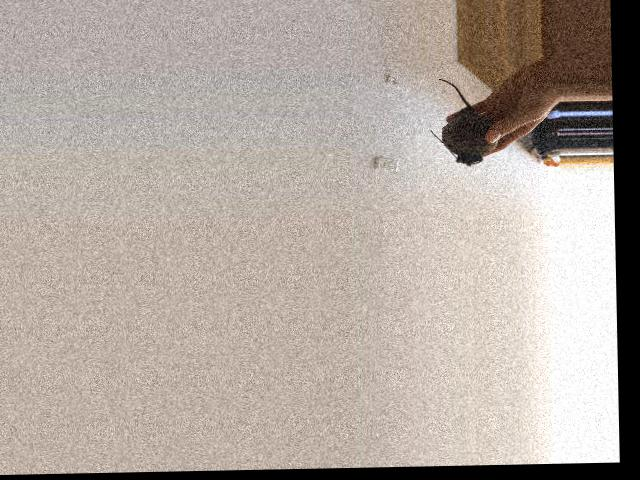beet: (428, 77, 499, 167)
